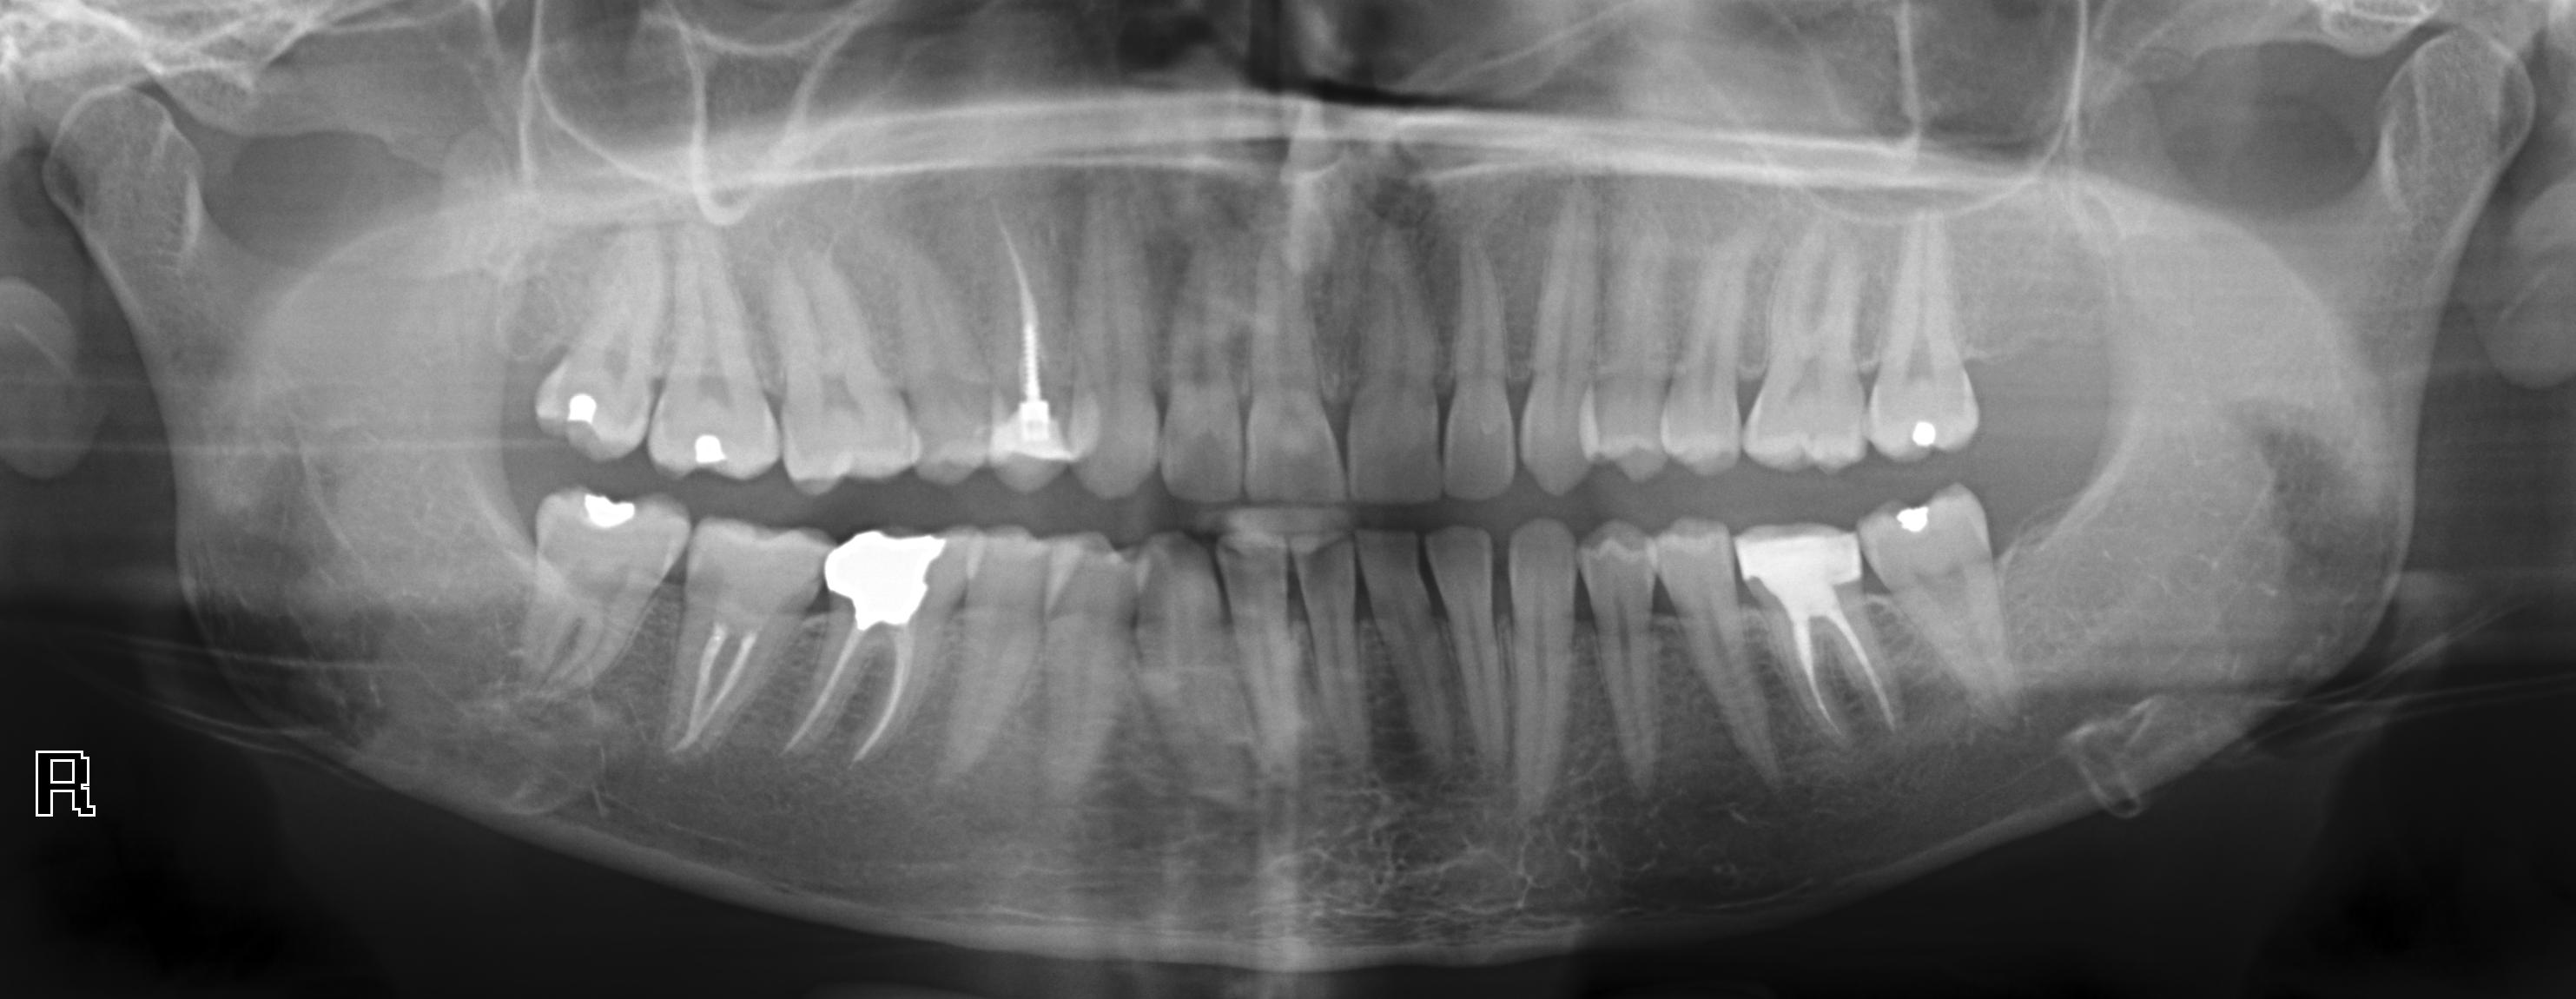Çürük: (1730, 527, 1865, 608), (820, 536, 935, 623), (997, 407, 1068, 470), (575, 493, 641, 536), (565, 393, 598, 432), (690, 435, 724, 468), (1898, 506, 1932, 534), (1909, 427, 1942, 450)
